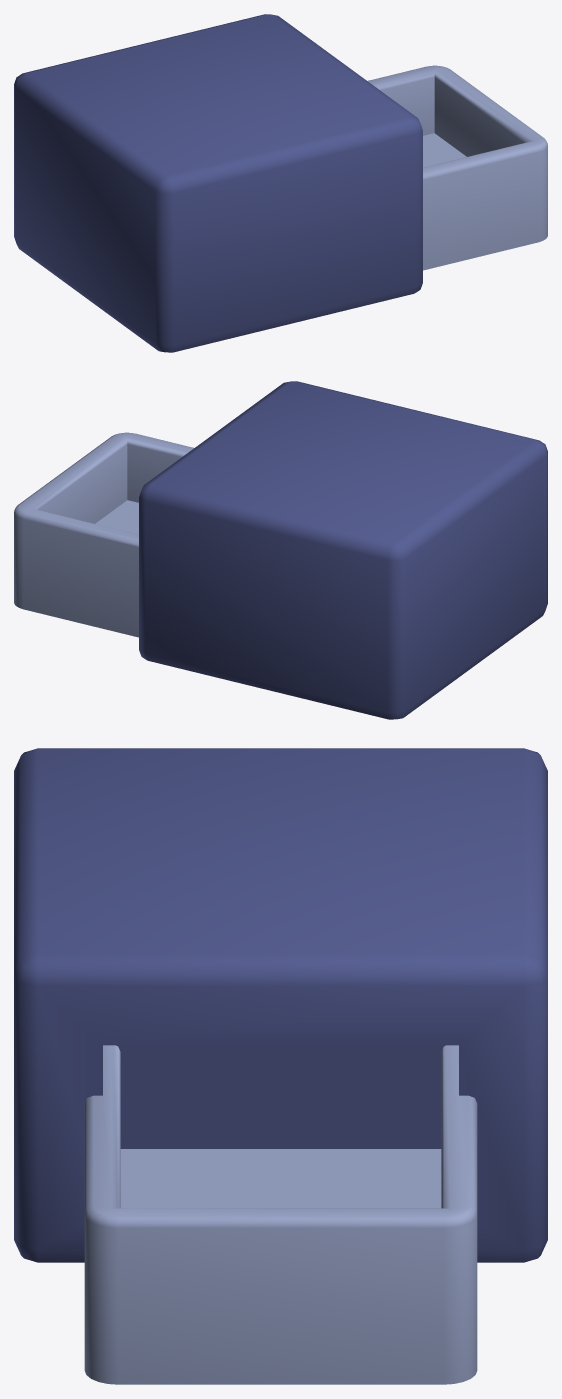
Rendered from threadmillBox.glb.
3 views of the same model, one above another, from view 1: azimuth 30°, elevation 25°; view 2: azimuth 150°, elevation 25°; view 3: azimuth 270°, elevation 25° (orthographic). The views are drawn at different scales.
Visible parts, largest first — view 1: BiggerBox, TileSpawnBox; view 2: BiggerBox, TileSpawnBox; view 3: BiggerBox, TileSpawnBox.
Boxes of the visible parts, x1,y1,x2,y2 form: BiggerBox: [14, 14, 422, 352]; TileSpawnBox: [368, 65, 547, 270]; BiggerBox: [139, 381, 547, 719]; TileSpawnBox: [14, 432, 193, 637]; BiggerBox: [14, 748, 547, 1262]; TileSpawnBox: [84, 1045, 477, 1384].
Size of the model in its own units: 0.9648 by 0.387 by 0.6219.
